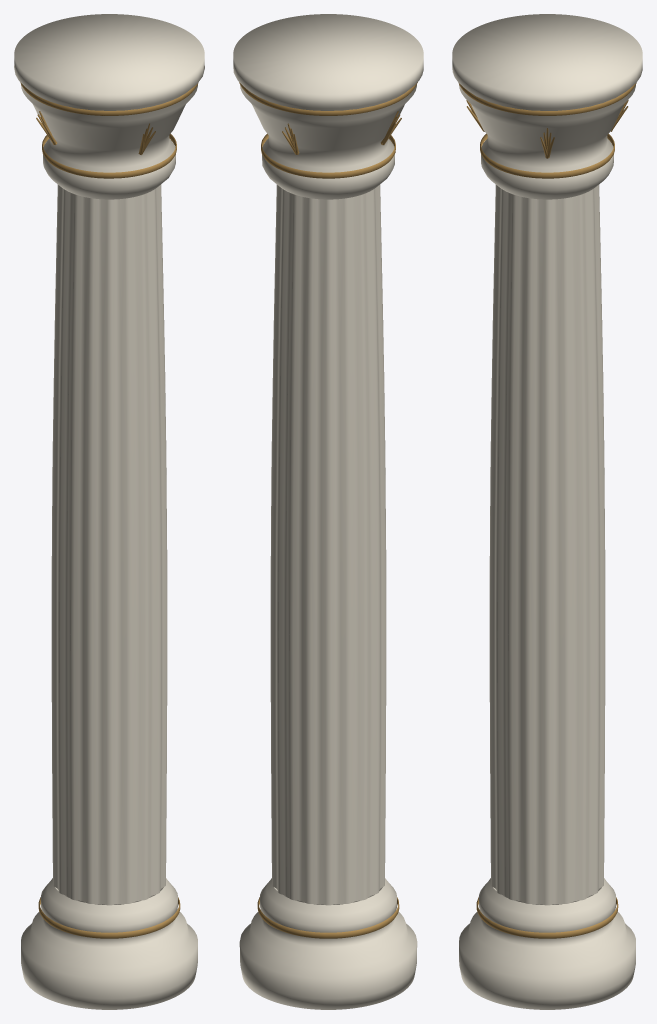
Rendered from ColumnLOD1.fbx.
3 renders of one model, left to right at view 1: azimuth 30°, elevation 25°; view 2: azimuth 150°, elevation 25°; view 3: azimuth 270°, elevation 25°, orthographic.
Visible parts, largest first — view 1: Column LOD1; view 2: Column LOD1; view 3: Column LOD1.
Part boxes in pixels (x1,y1,x2,y2): Column LOD1: [14, 14, 204, 1009]; Column LOD1: [233, 14, 423, 1009]; Column LOD1: [452, 14, 642, 1009].
Size of the model in its own units: 86 by 458 by 86.
